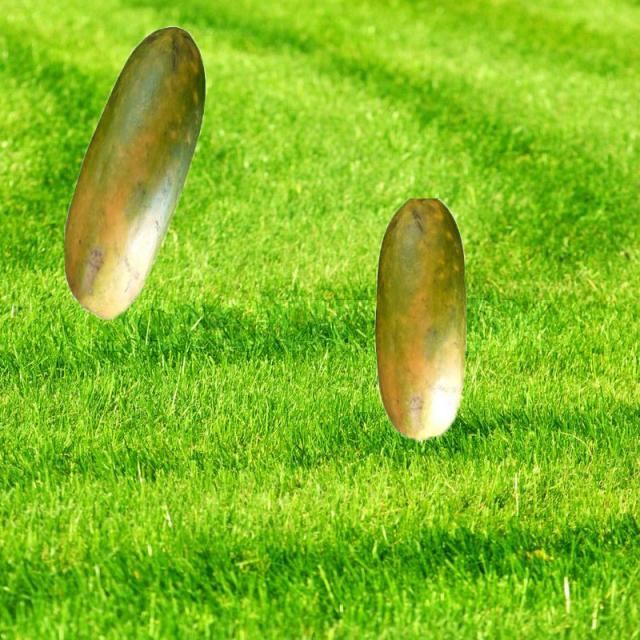Pepaya rippen: (63, 26, 207, 329), (373, 192, 470, 438)
